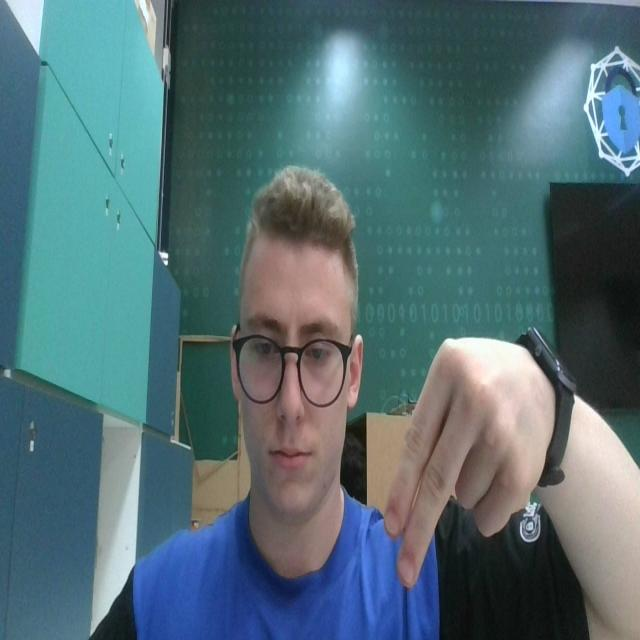N: (380, 320, 545, 590)
